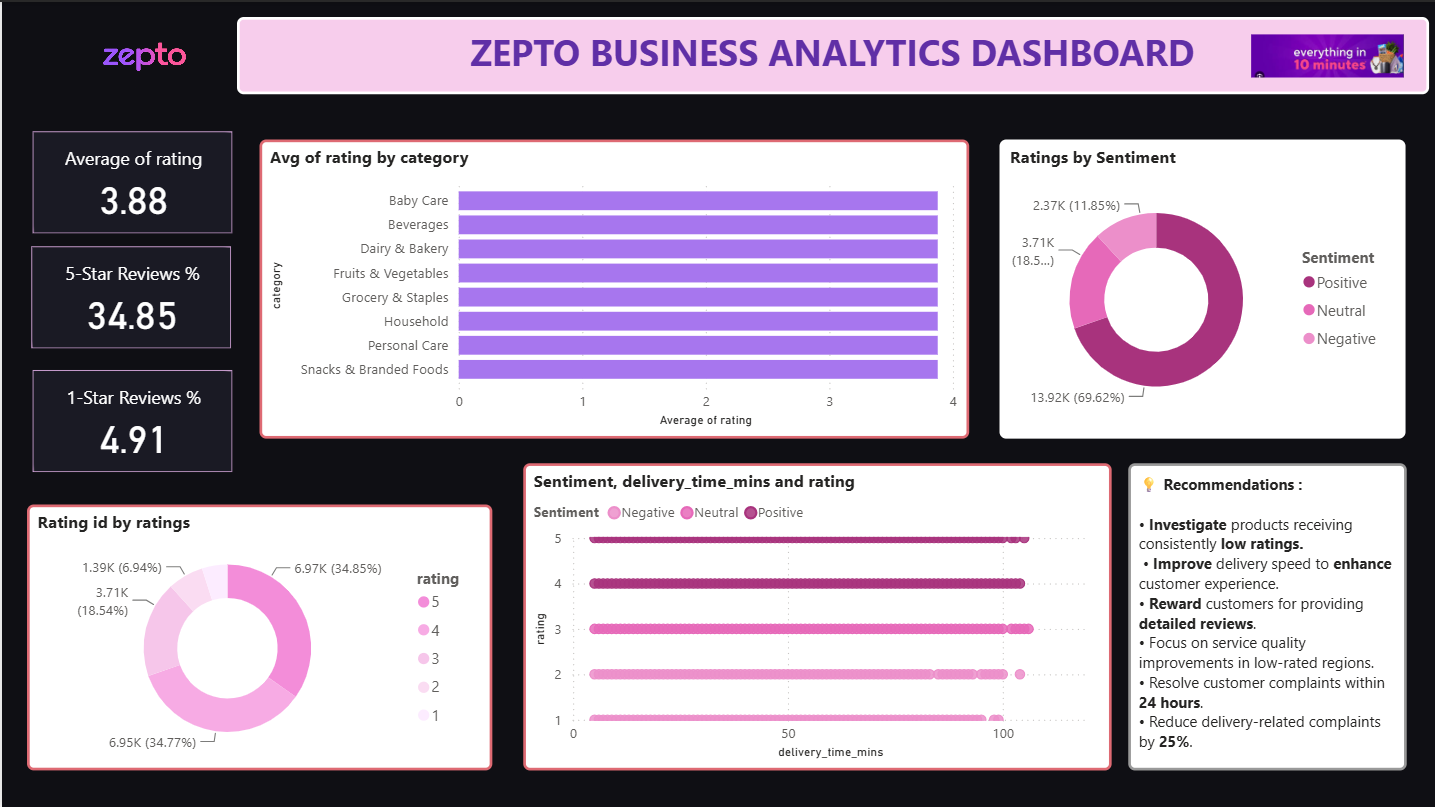

Layout of this report page (visuals, bound fields, positions):
{"tool":"powerbi","page":{"name":"Customer Satisfaction Analysis","canvas":[1280,720],"ordinal":5},"visuals":[{"type":"textbox","box":[209.8,13.5,1061.4,68.7],"z":0},{"type":"image","box":[0,0,251,103],"z":1000},{"type":"cardVisual","title":"Revenue","fields":{"Data":["Avg(rating_Sheet.rating)"]},"box":[22.1,110.4,189,101.8],"z":2000},{"type":"cardVisual","title":"Revenue","fields":{"Data":["customer_Sheet.1-Star Reviews %"]},"box":[22.1,322.7,189,101.8],"z":3000},{"type":"cardVisual","title":"Revenue","fields":{"Data":["customer_Sheet.5-Star Reviews %"]},"box":[20.9,212.3,189,101.8],"z":4000},{"type":"donutChart","title":"Rating id by ratings","fields":{"Y":["CountNonNull(rating_Sheet.rating_id)"],"Category":["rating_Sheet.rating"]},"box":[22.1,447.9,414.7,236.8],"z":5000},{"type":"donutChart","title":"Ratings  by Sentiment","fields":{"Category":["rating_Sheet.Sentiment"],"Y":["CountNonNull(rating_Sheet.rating_id)"]},"box":[888.3,122.7,362,266.3],"z":6000},{"type":"clusteredBarChart","title":"Avg of rating by category","fields":{"Category":["product_Sheet.category"],"Y":["Avg(rating_Sheet.rating)"]},"box":[229.4,122.7,631.9,266.3],"z":7000},{"type":"scatterChart","fields":{"X":["delivery_Sheet.delivery_time_mins"],"Y":["rating_Sheet.rating"],"Series":["rating_Sheet.Sentiment"]},"box":[463.8,411,523.9,273.6],"z":8000},{"type":"textbox","box":[1002.5,411,247.9,273.6],"z":9000},{"type":"image","box":[1108,19.6,146,56.4],"z":10000}]}

Visuals, with their boxes in screenshot pixels (x1, y1, x2, y2), scaled from the page's 1280x720 canvas onto the 1435x807 screenshot:
textbox: 235 15 1425 92
image: 0 0 281 115
"Revenue" cardVisual: 25 124 237 238
"Revenue" cardVisual: 25 362 237 476
"Revenue" cardVisual: 23 238 235 352
"Rating id by ratings" donutChart: 25 502 490 767
"Ratings  by Sentiment" donutChart: 996 138 1402 436
"Avg of rating by category" clusteredBarChart: 257 138 966 436
scatterChart - delivery_Sheet.delivery_time_mins x rating_Sheet.rating: 520 461 1107 767
textbox: 1124 461 1402 767
image: 1242 22 1406 85
